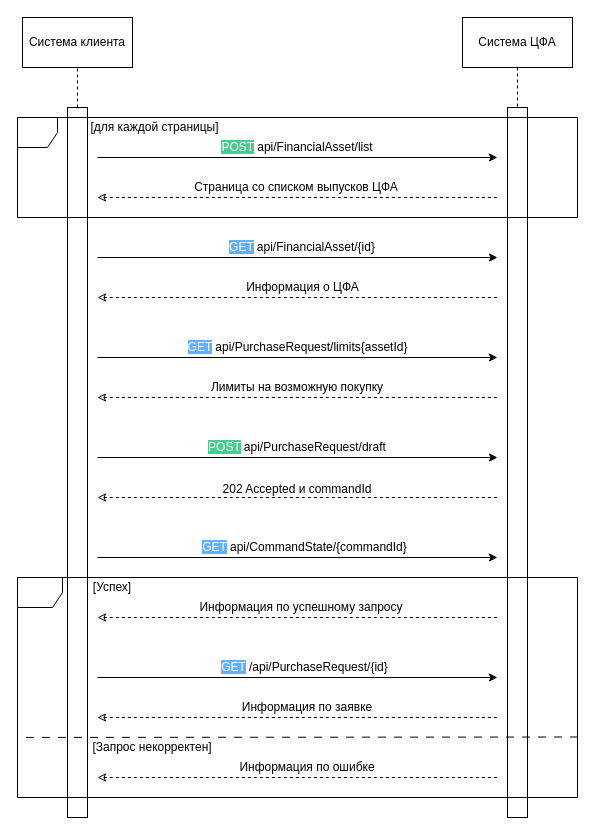
The diagram is 597 pixels wide and 835 high, and some of its shapes have lost their labels. The box of each missing label's shape, as (x1, y1, x2, y2) in pixels:
alt: (16, 576, 578, 798)
loop: (16, 116, 578, 218)
